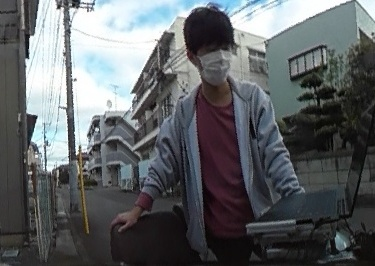person: (168, 7, 301, 266)
